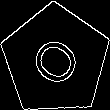O_SE: (24, 28, 88, 92)
